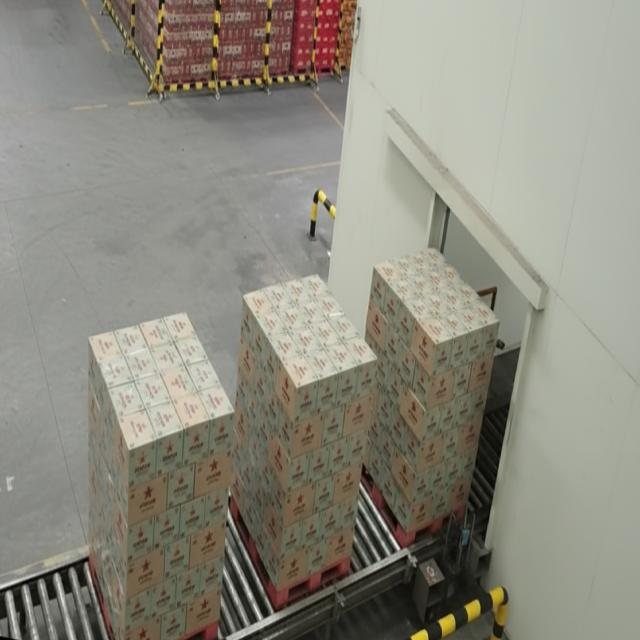pallet: (86, 303, 236, 640), (232, 267, 362, 608), (369, 243, 502, 568)
